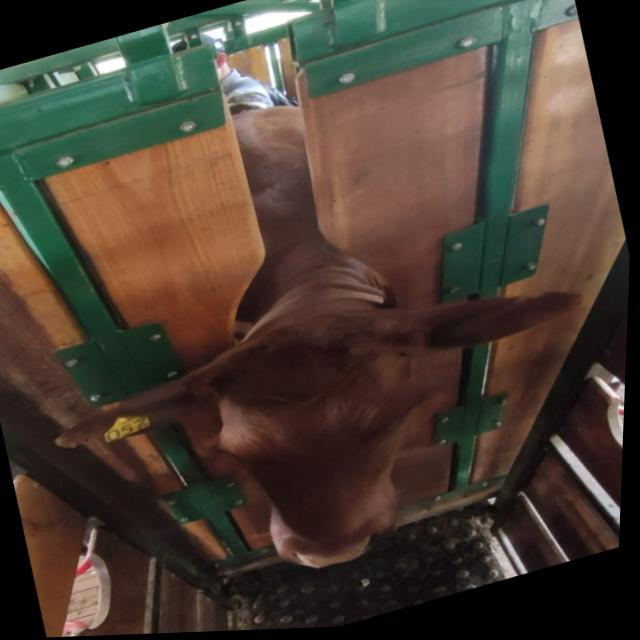cowFace: (198, 291, 472, 592)
